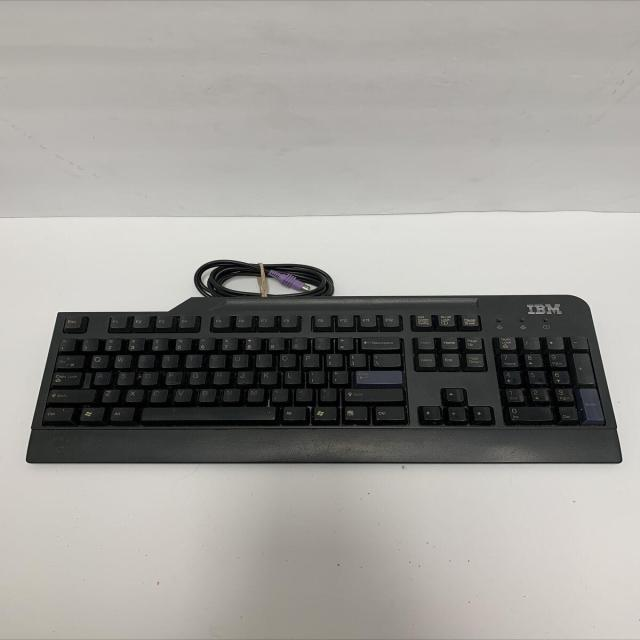keyboard: (17, 308, 627, 466)
